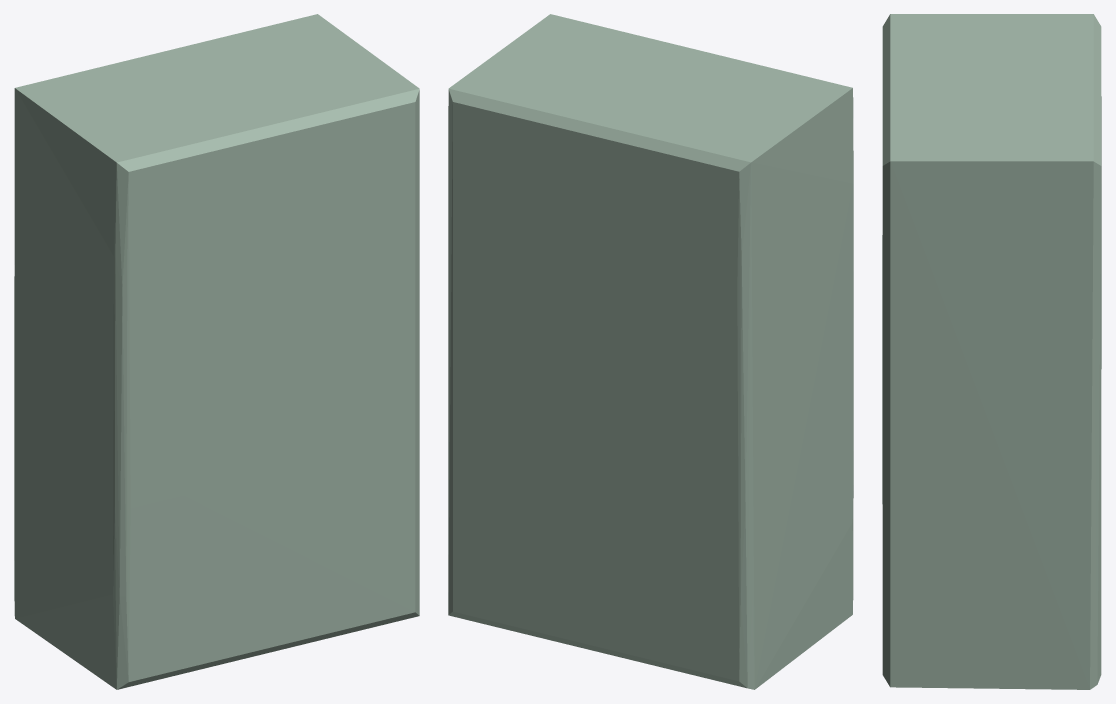
The model's file is name-text-e-collider.glb.
3 views of the same model, side by side, from view 1: azimuth 30°, elevation 25°; view 2: azimuth 150°, elevation 25°; view 3: azimuth 270°, elevation 25° (orthographic).
Visible parts, largest first — view 1: world.001; view 2: world.001; view 3: world.001.
Part boxes in pixels (x1,y1,x2,y2): world.001: (14, 14, 419, 689); world.001: (448, 14, 853, 689); world.001: (882, 14, 1101, 689).
Size of the model in its own units: 0.6603 by 1.09 by 0.4103.
